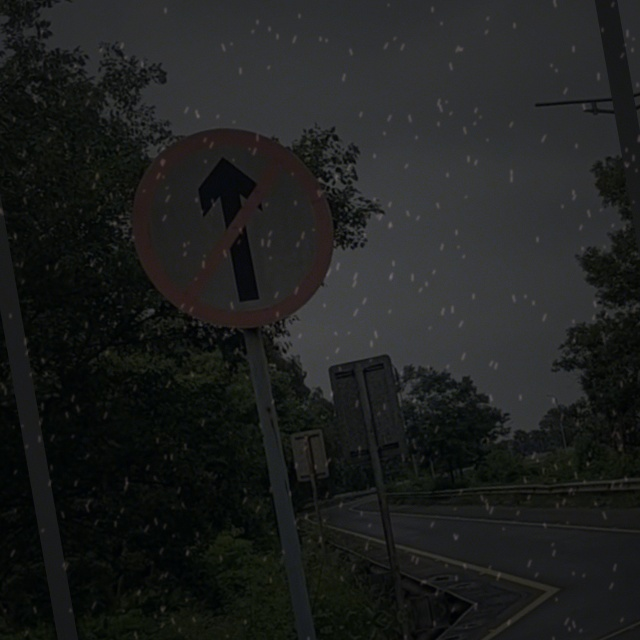No_Entry: (118, 116, 347, 343)
